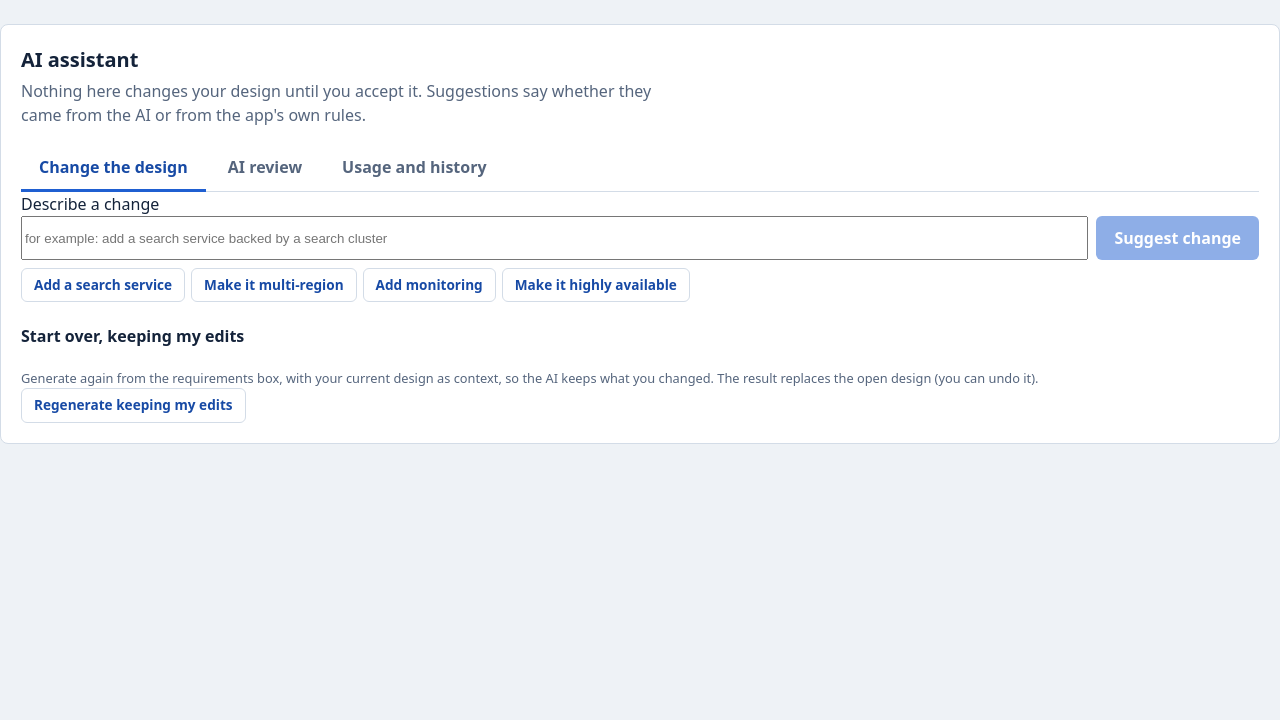
Scenario: AI assistant: change the design › shows the suggested change as adds, removes and changes, with where it came from
Type "add search" into the field labelled "Describe a change" at (555, 238), box [21,216,1088,260]
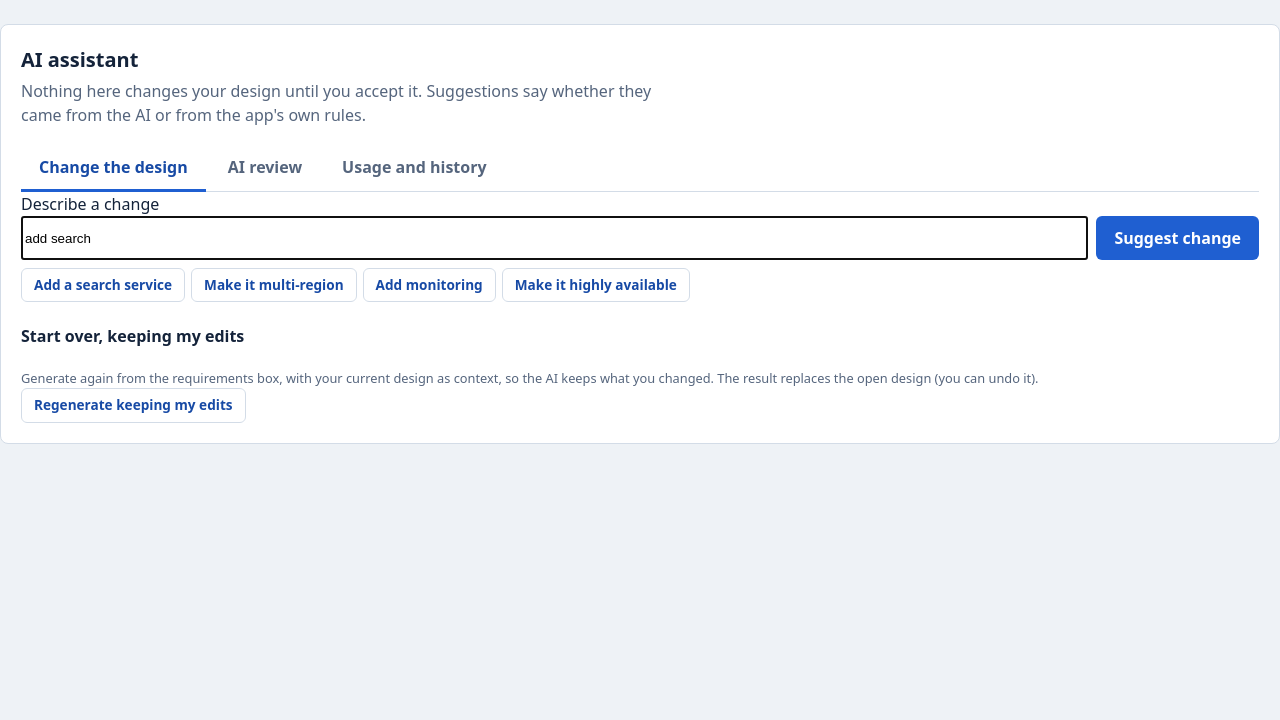
Click the button "Suggest change" at (1178, 238), box [1096,216,1259,260]
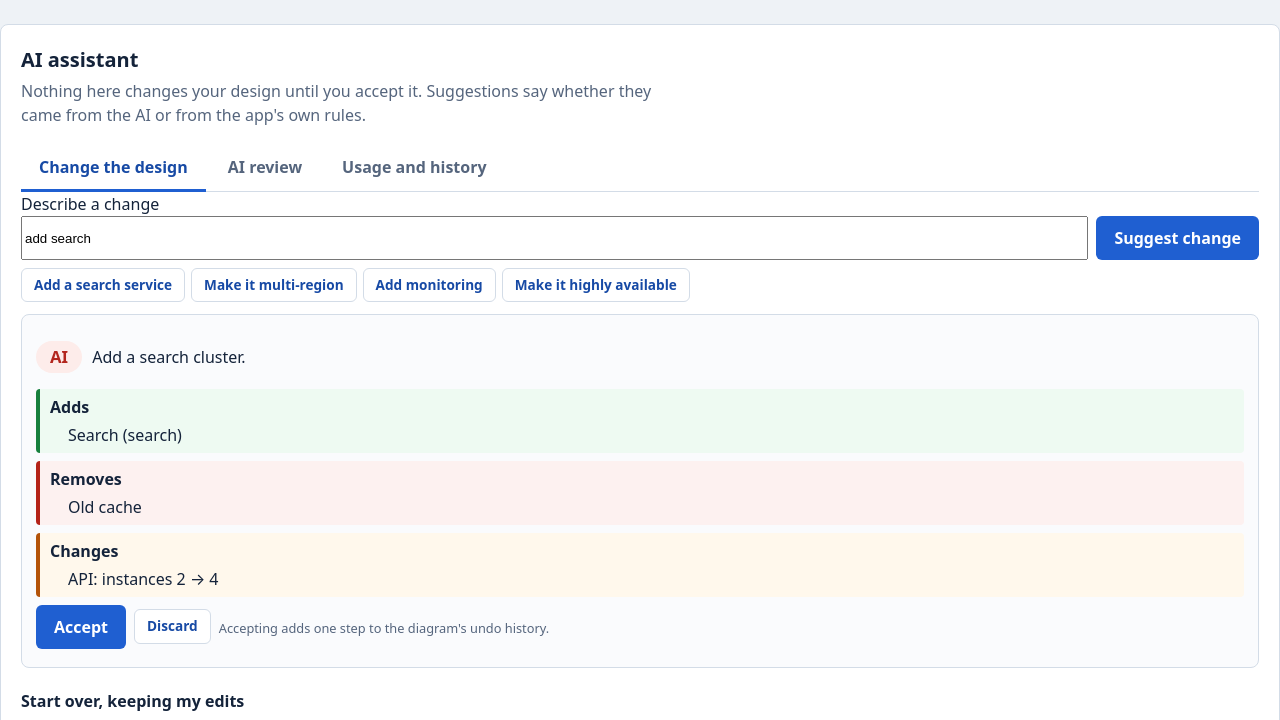
Check: the text "Add a search cluster." is shown, box [92,346,246,368]
Check: the text "AI" is shown, box [36,341,82,373]
Check: the list item "Search (search)" is shown, box [68,424,182,446]
